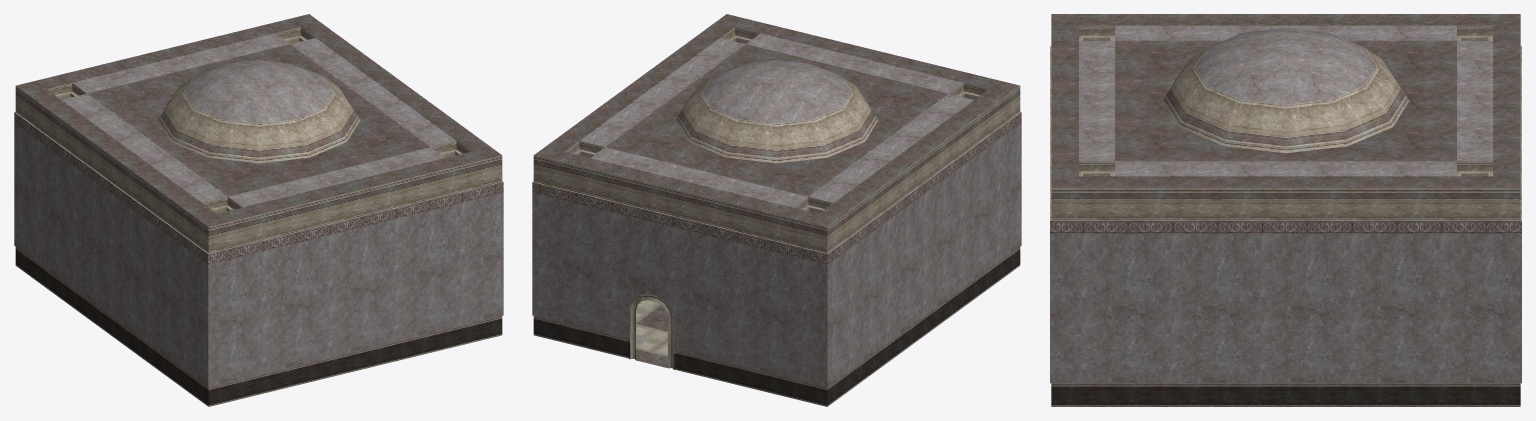
File: mun_corl_capitol_s01_r9_meeting4_mesh_meeting4.fbx
3 renders of one model, left to right at view 1: azimuth 30°, elevation 25°; view 2: azimuth 150°, elevation 25°; view 3: azimuth 270°, elevation 25°, orthographic. The views are drawn at different scales.
Parts seen in each view (by area): view 1: mesh_node; view 2: mesh_node; view 3: mesh_node.
Boxes of the visible parts, x1,y1,x2,y2 form: mesh_node: (14, 14, 503, 406); mesh_node: (532, 14, 1021, 406); mesh_node: (1050, 14, 1521, 406).
Bounding box in the file's own units: 15.07 × 11.06 × 17.14.
